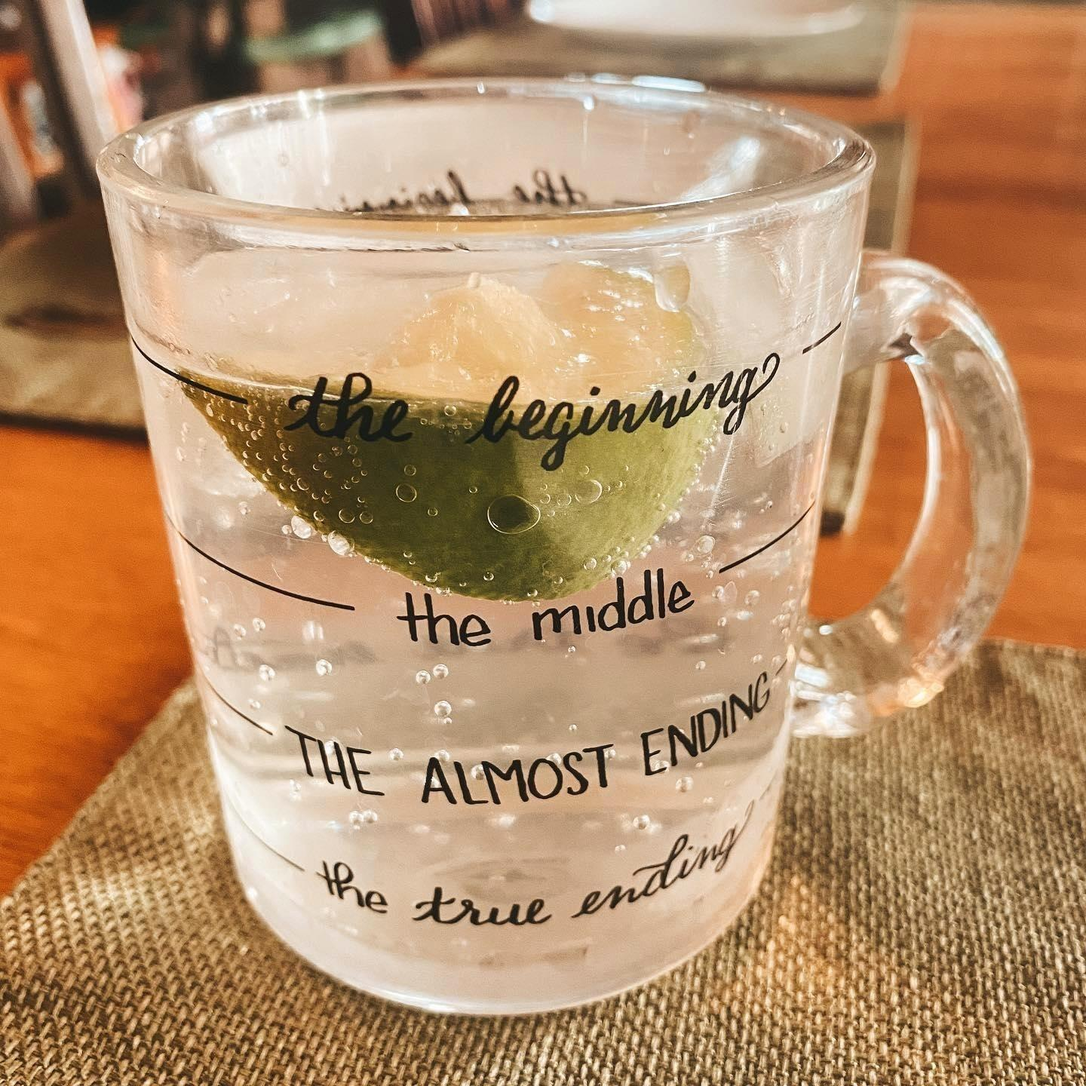glass-mug: (100, 73, 1053, 1039)
